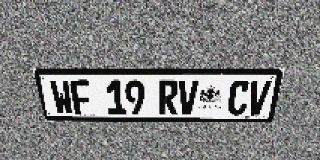1: (104, 80, 126, 115)
9: (125, 80, 145, 115)
C: (227, 80, 251, 115)
F: (69, 80, 94, 115)
R: (158, 80, 178, 115)
V: (246, 80, 272, 115), (178, 80, 199, 115)
W: (49, 80, 75, 115)
